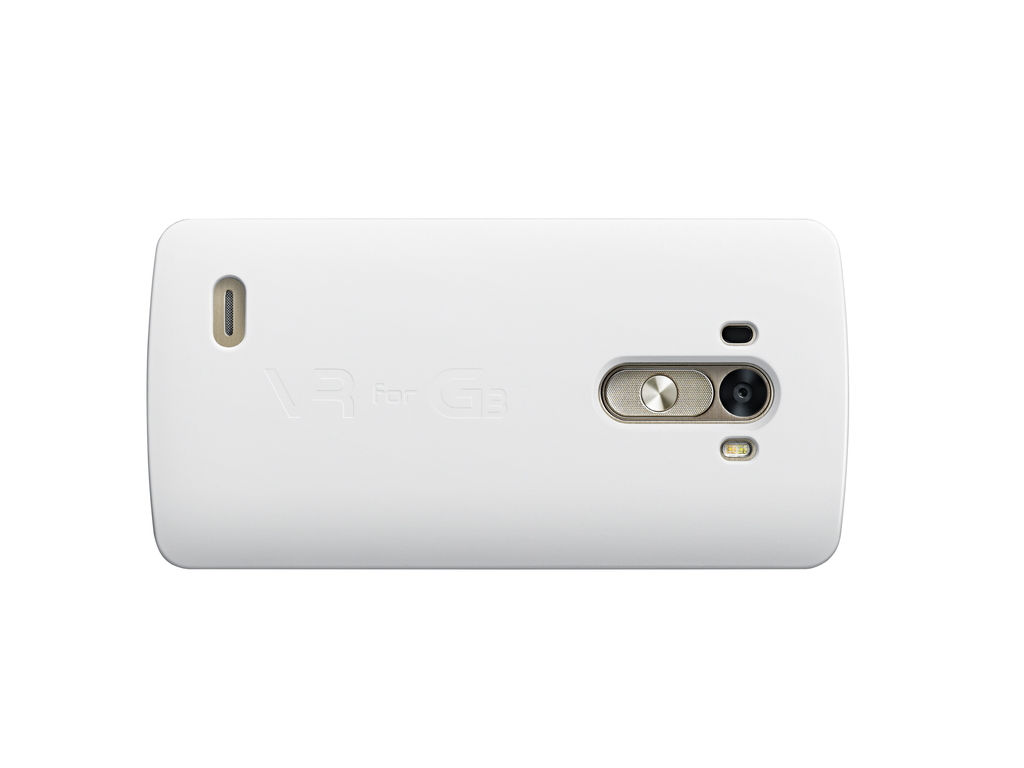Mobile-phone: (140, 216, 854, 573)
